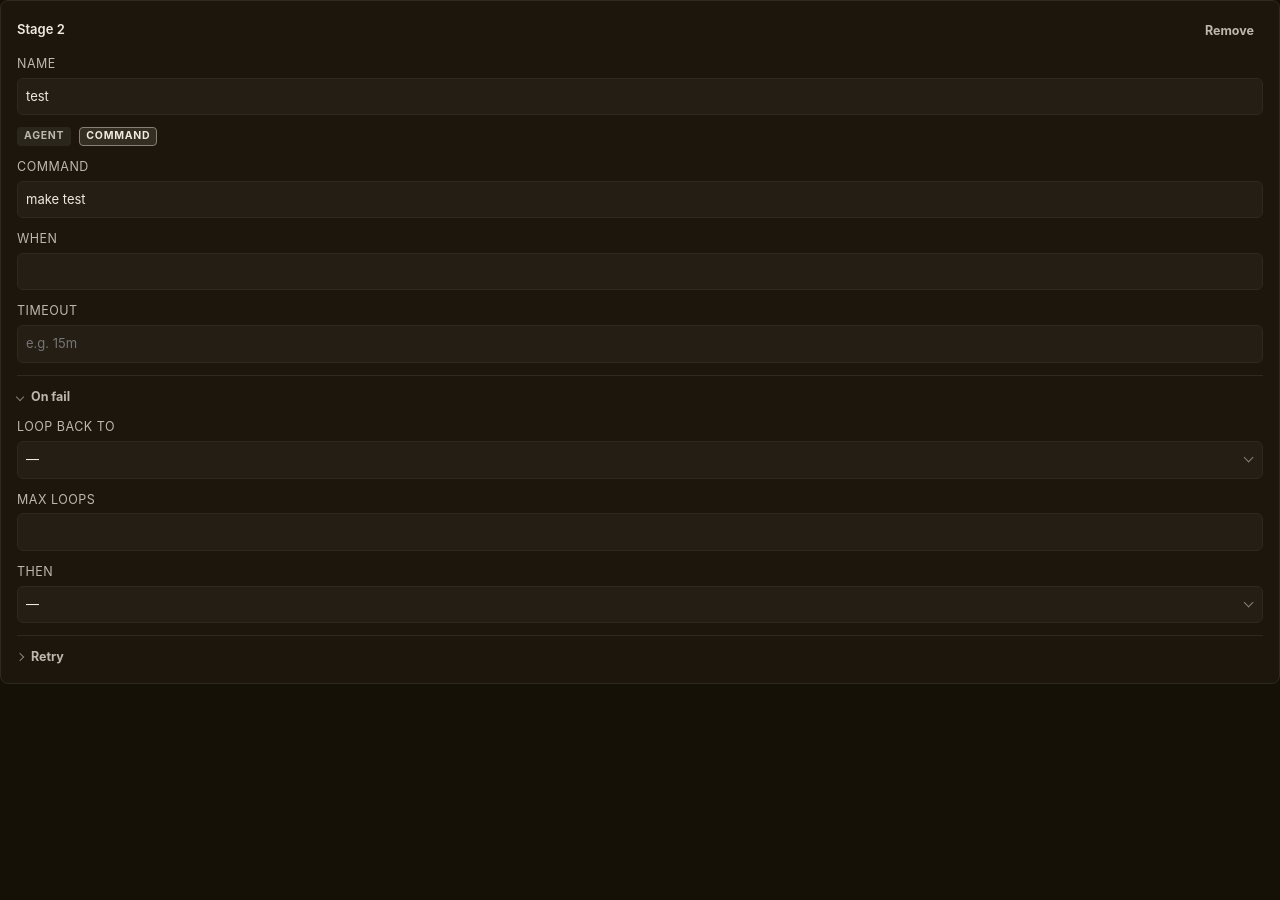
Scenario: StageCard › constrains loop_back options to earlier stages only
Click the button "—" below "Loop back to": click(32, 459) [17,441,1263,478]
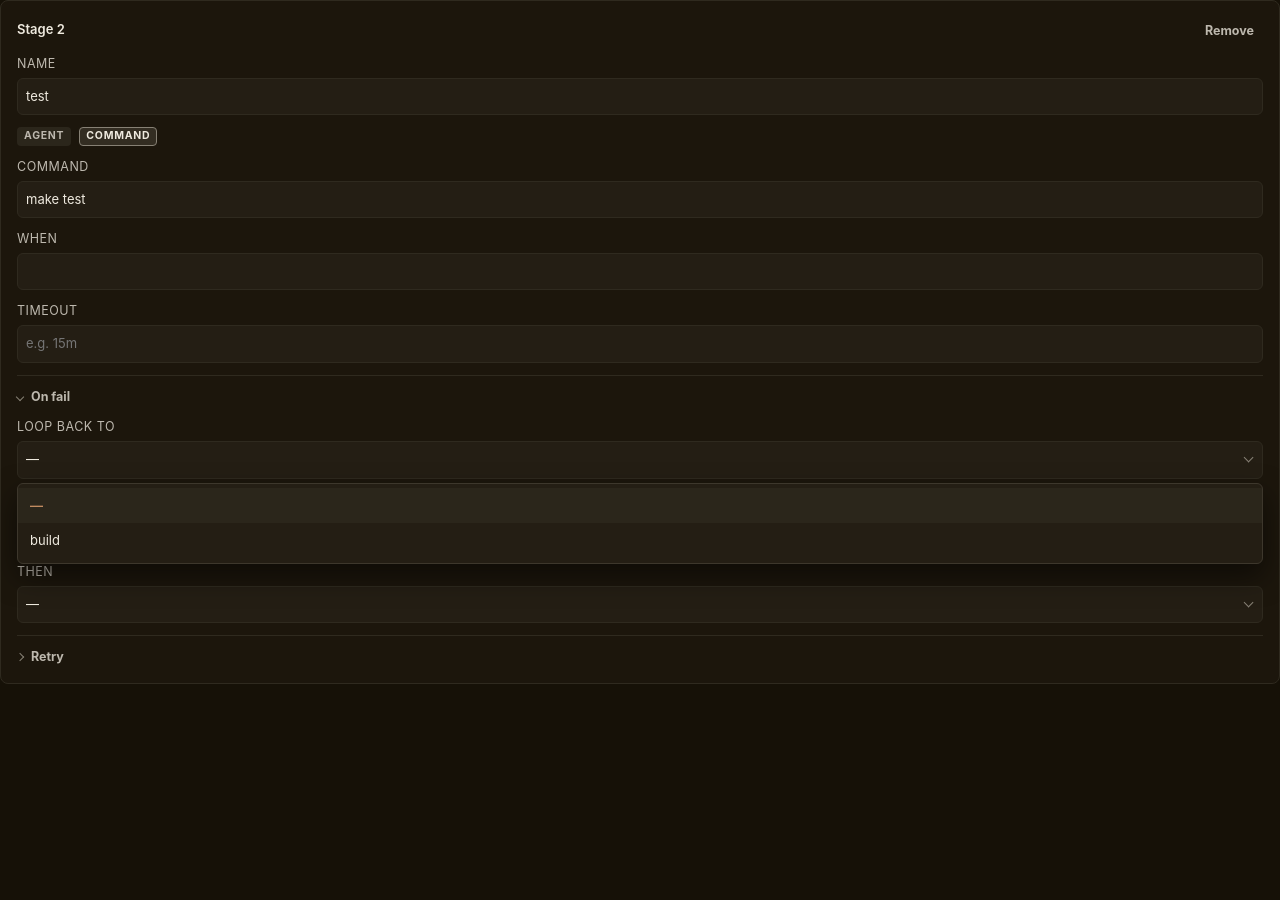
Expected: the option does not show "test"
Expected: the option "build" is shown, [30,532,60,548]
